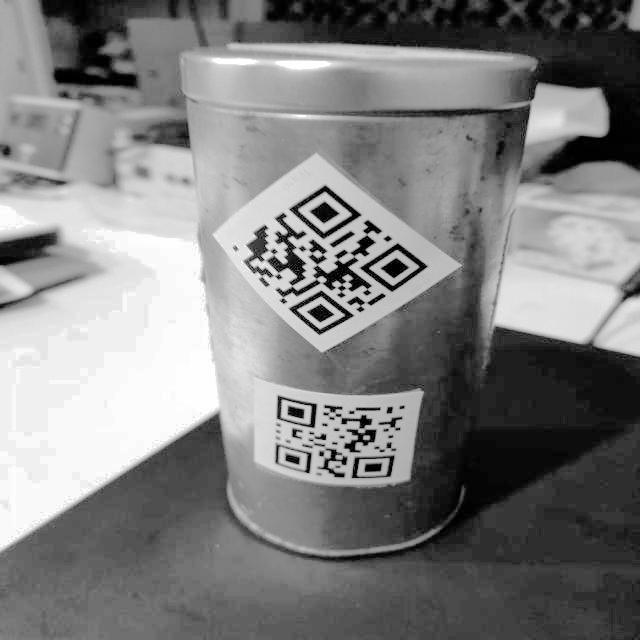qr_code: (219, 171, 439, 346), (261, 381, 418, 489)
